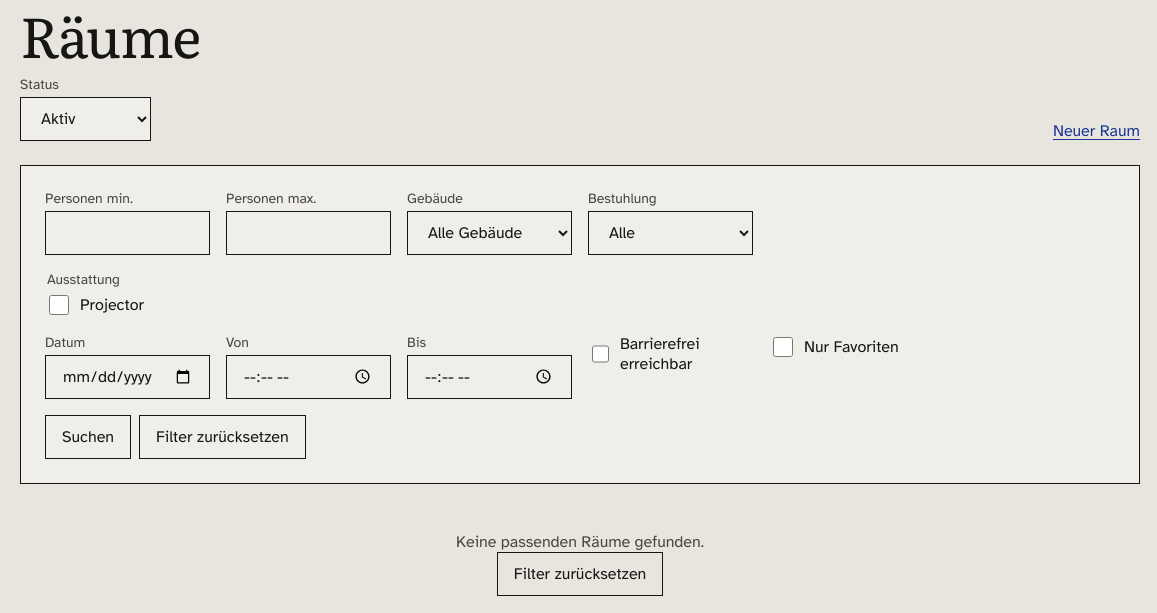
it: RoomListPage › uses the plain room list and disables the search for other statuses
Select "Deaktiviert" in the dropdown labelled "Status" at (86, 119), box [20,97,151,141]
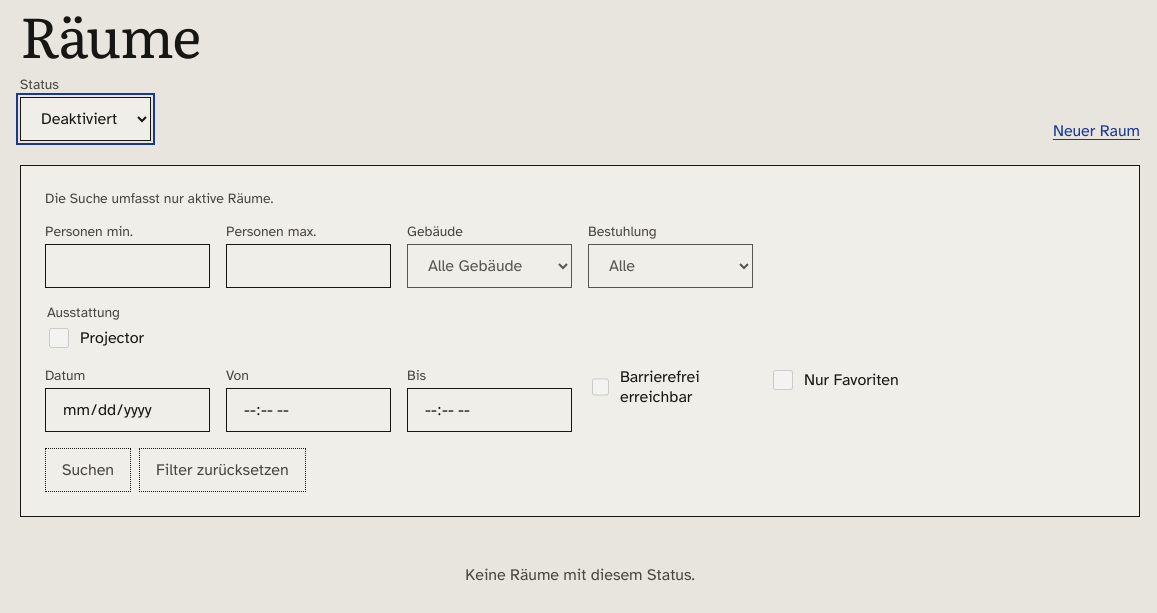
Expected: the number field labelled "Personen min." is disabled, [45,244,210,288]
Now the text "Die Suche umfasst nur aktive Räume." is shown, box [45,190,273,207]
